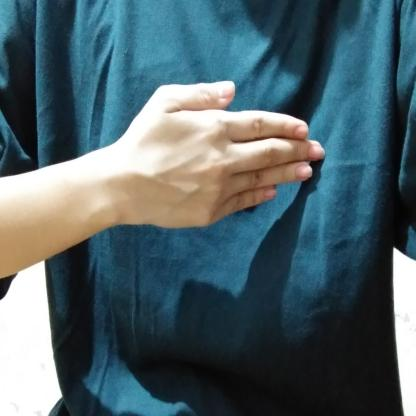ready: (106, 76, 332, 237)
